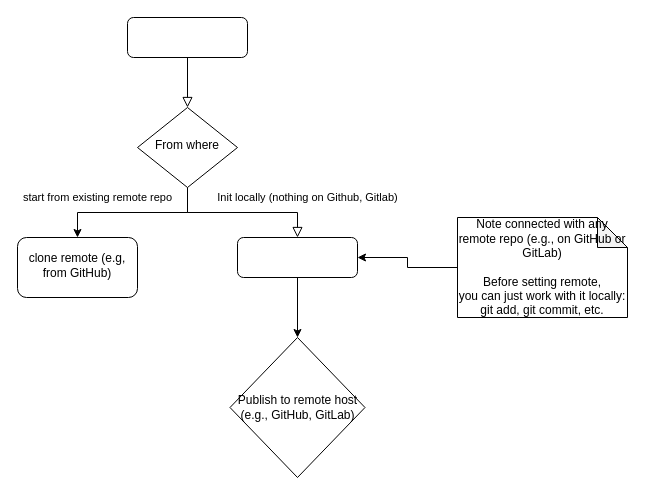
Some shapes in this 645 by 495 pixel diagram are drawn without their labels. The box of each missing label's shape, as (x1, y1, x2, y2) in pixels:
Init locally > git init: (236, 236, 358, 278)
New Git repo on your local machine: (126, 16, 248, 58)
